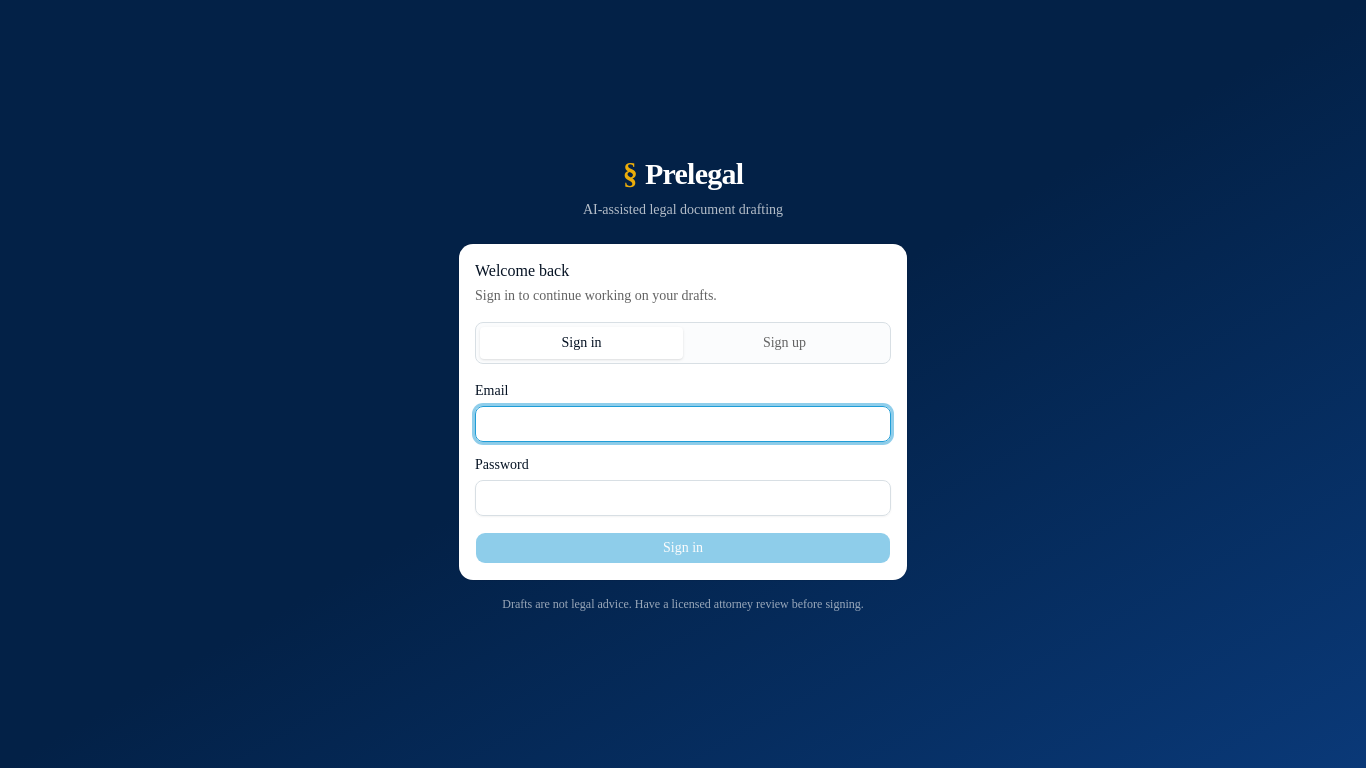
<LoginPage /> › displays the API error when signup is rejected
This screenshot has width=1366, height=768.
Click the tab "Sign up". click: (784, 343)
box: [683,327,886,359]
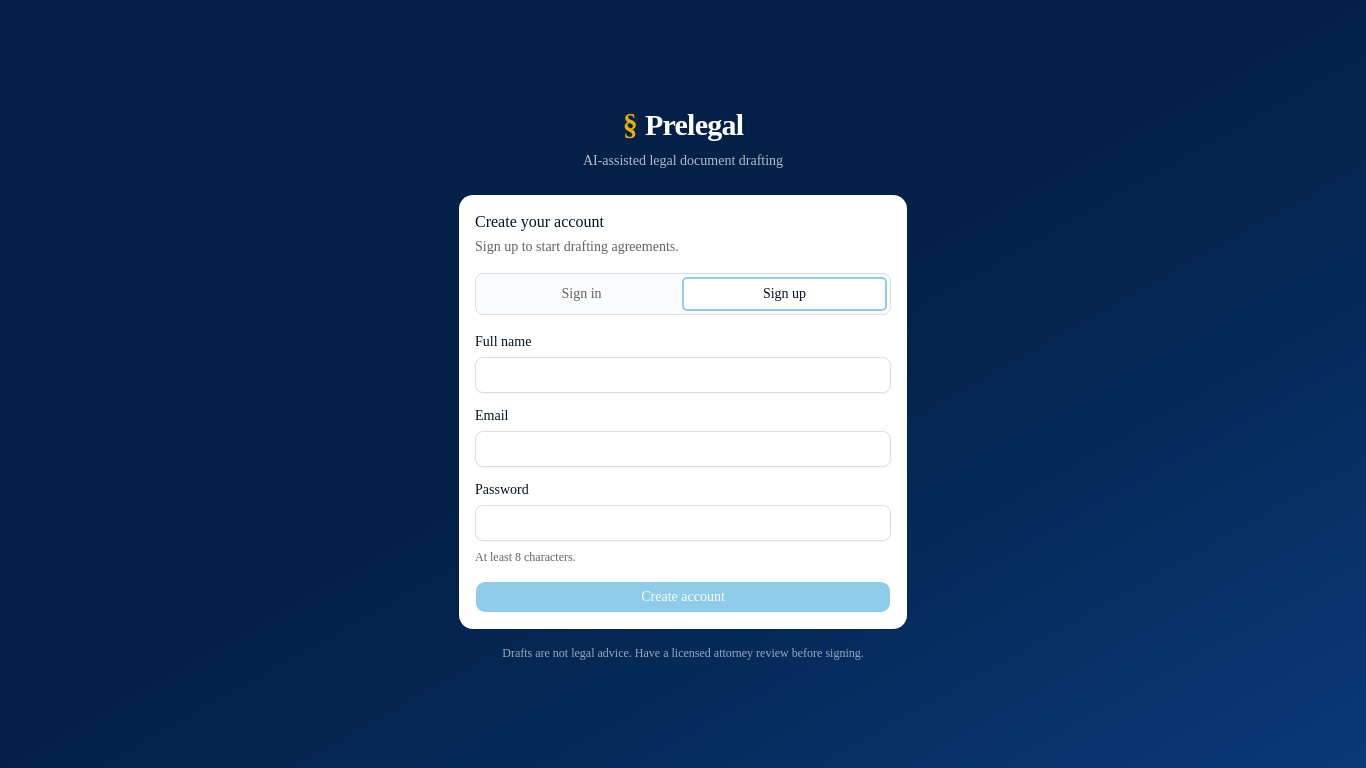
Type "Alice" into the field labelled "Full name". click: (683, 375)
box: [475,357,891,393]
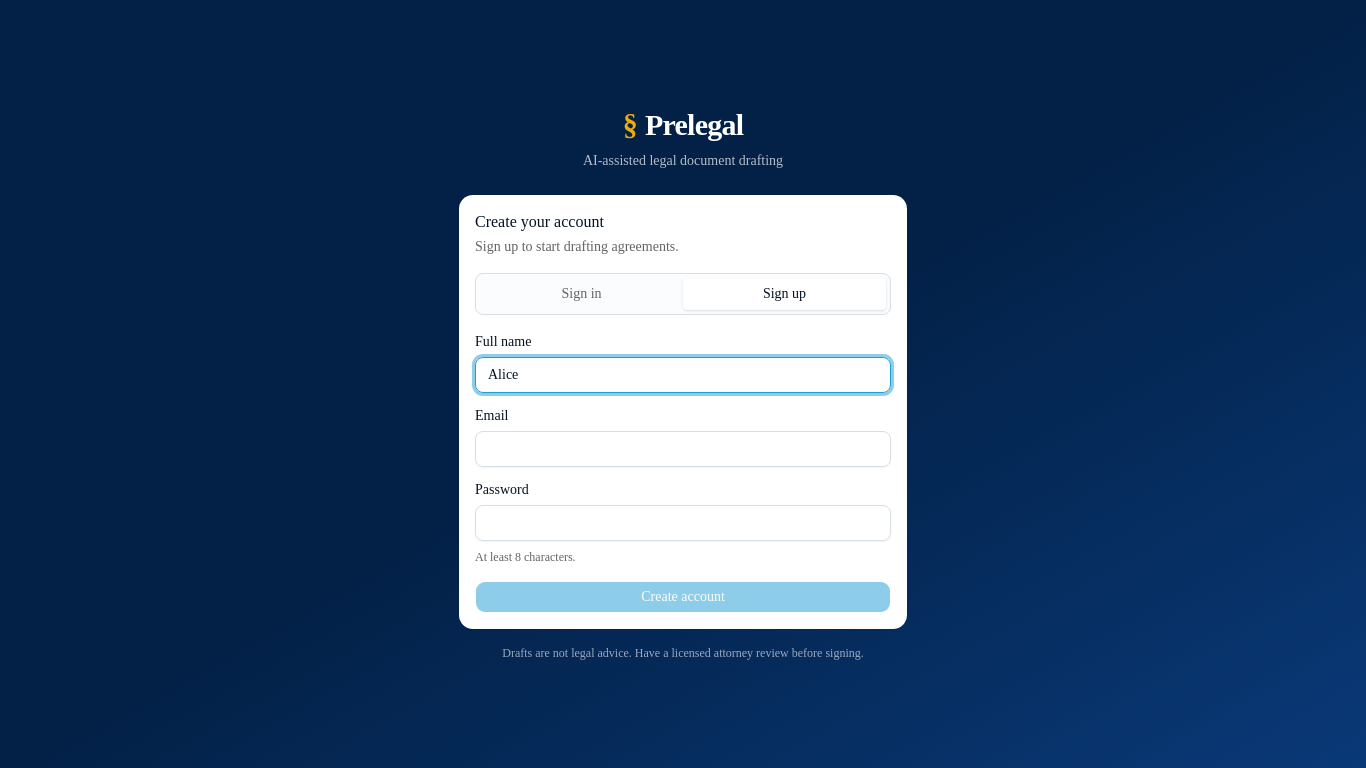
Type "alice@example.com" into the field labelled "Email". click: (683, 449)
box: [475,431,891,467]
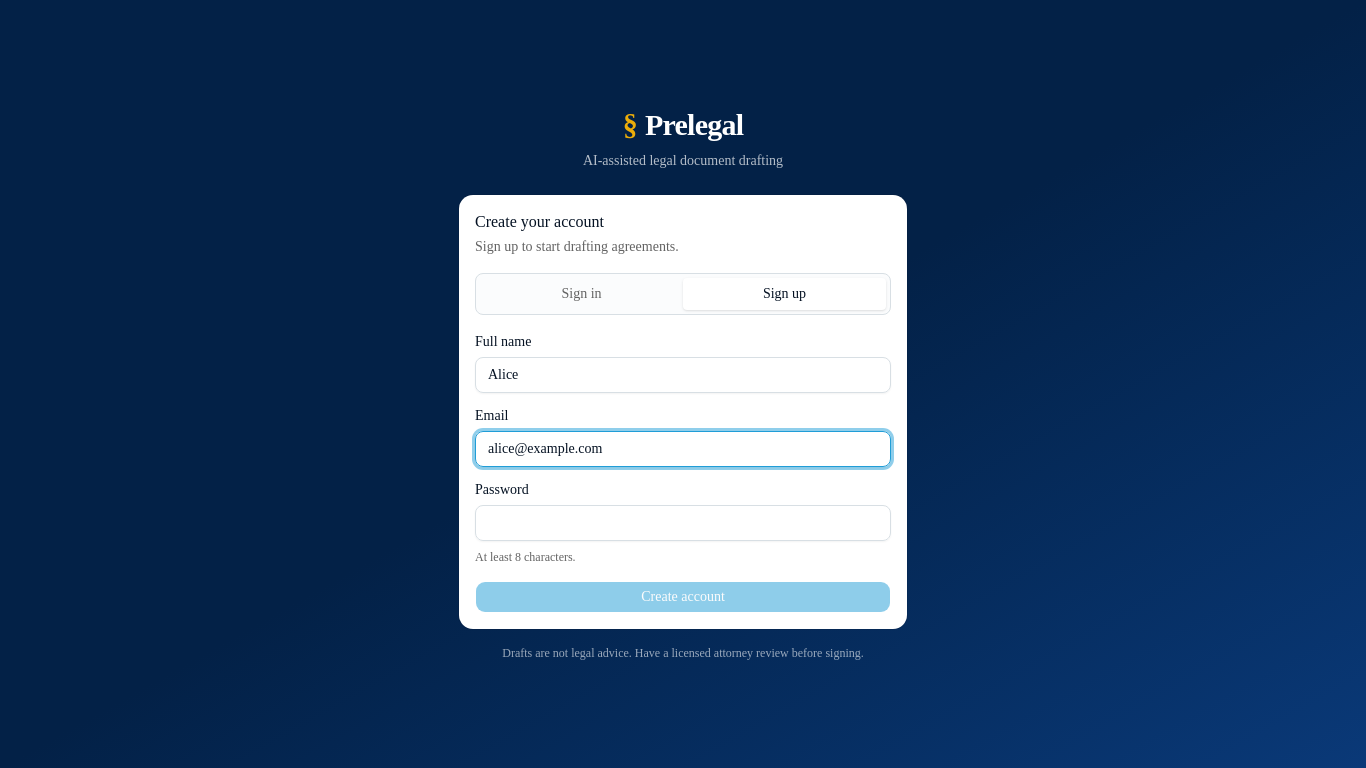
Type "hunter2hunter2" into the password field labelled "Password". click: (683, 523)
box: [475,505,891,541]
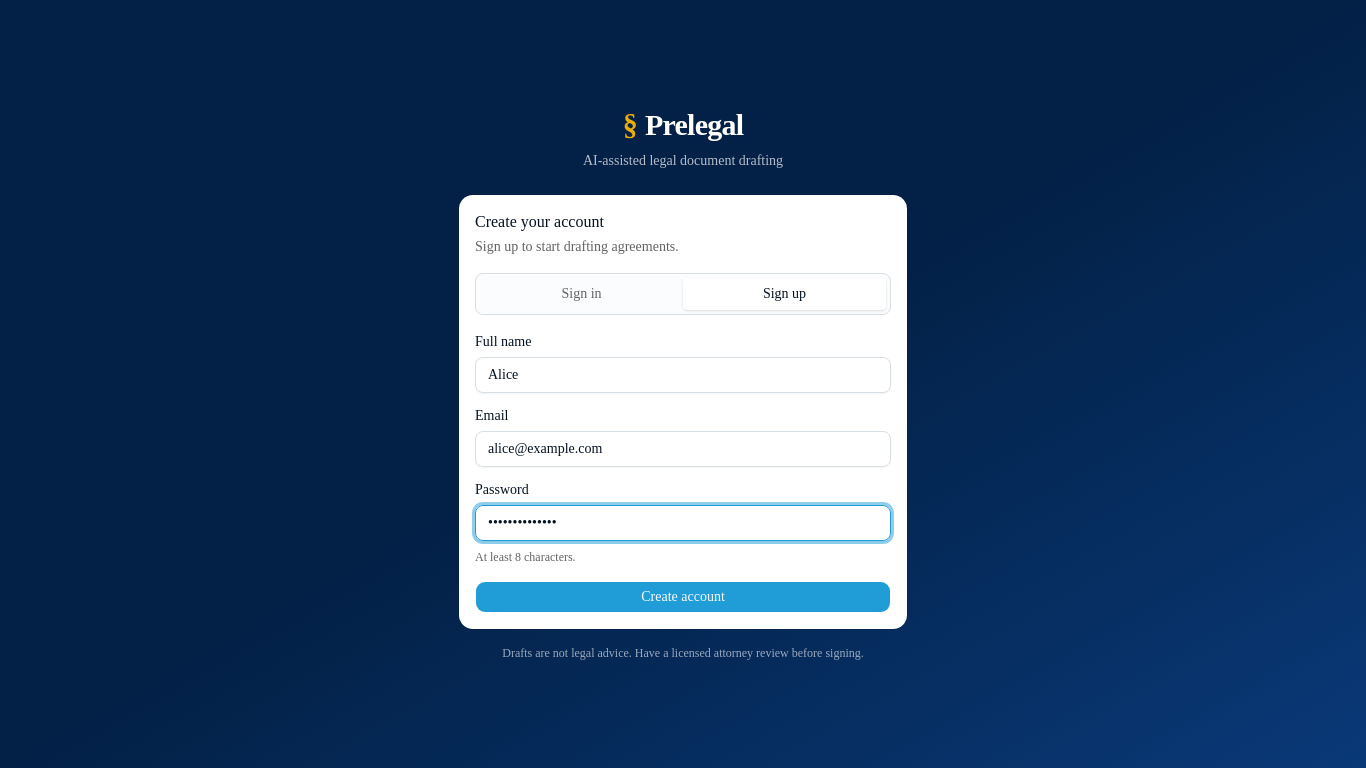
Click the button "Create account". click: (683, 597)
box: [475,581,891,613]
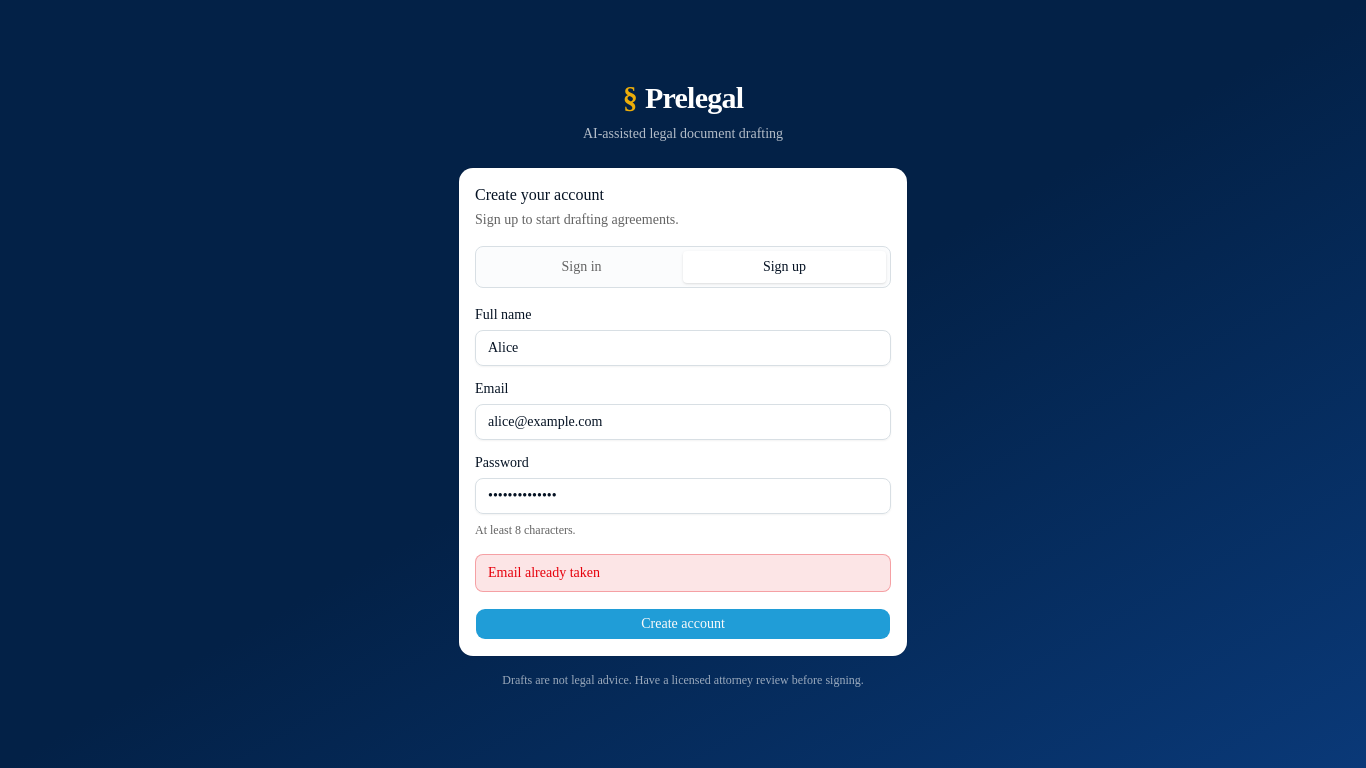
expect the message reads "Email already taken": met, box [488,565,600,580]
